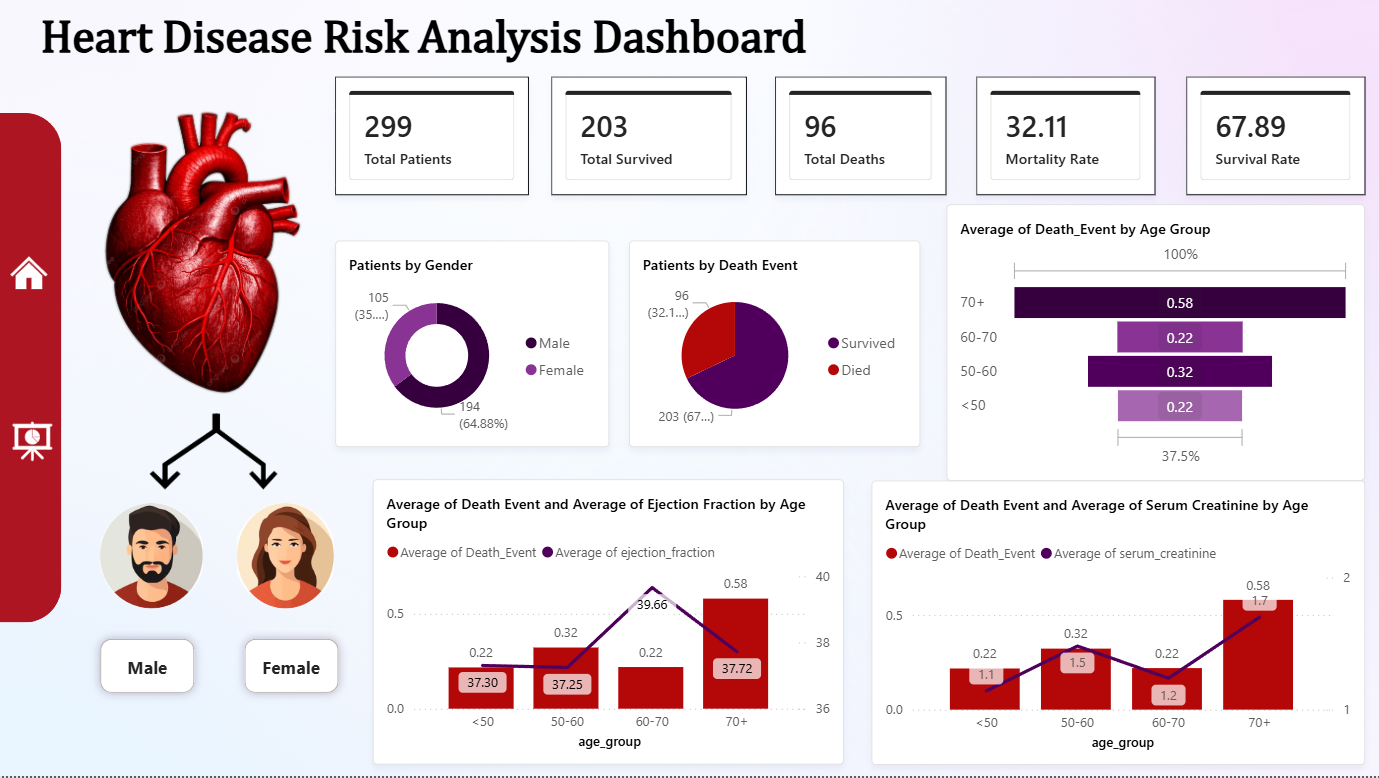

This screenshot's page, from the dashboard's own definition file:
{"tool":"powerbi","page":{"name":"Overview","canvas":[1280,720],"ordinal":0},"visuals":[{"type":"cardVisual","fields":{"Data":["Heart Disease EDA.Total Patients"]},"box":[311.2,72.9,179.3,109.9],"z":0},{"type":"cardVisual","fields":{"Data":["Heart Disease EDA.Total Deaths"]},"box":[718.3,72.9,158.5,109.9],"z":1000},{"type":"cardVisual","fields":{"Data":["Heart Disease EDA.Total Survived"]},"box":[511.3,72.9,180.4,109.9],"z":2000},{"type":"cardVisual","fields":{"Data":["Heart Disease EDA.Mortality Rate"]},"box":[904.5,72.9,165.4,109.9],"z":3000},{"type":"cardVisual","fields":{"Data":["Heart Disease EDA.Survival Rate"]},"box":[1098.9,72.9,165.4,109.9],"z":4000},{"type":"pieChart","title":"Patients by Death Event","fields":{"Category":["Heart Disease EDA.outcome_label"],"Y":["Heart Disease EDA.Total Patients"]},"box":[583,224.4,269.5,190.9],"z":5000},{"type":"donutChart","title":"Patients by Gender","fields":{"Y":["Heart Disease EDA.Total Patients"],"Category":["Heart Disease EDA.sex_label"]},"box":[311.2,224.4,253.3,190.9],"z":6000},{"type":"funnel","title":"Average of Death_Event by Age Group","fields":{"Category":["Heart Disease EDA.age_group"],"Y":["Avg(Heart Disease EDA.Death_Event)"]},"box":[876.8,190.9,387.5,255.6],"z":7000},{"type":"textbox","box":[33.9,9,747.4,71.2],"z":8000},{"type":"image","box":[92.7,467,97.2,97.2],"z":9000},{"type":"image","box":[218.2,467,92.7,97.2],"z":10000},{"type":"lineStackedColumnComboChart","title":"Average of Death Event and Average of Serum Creatinine by Age Group","fields":{"Category":["Heart Disease EDA.age_group"],"Y2":["Avg(Heart Disease EDA.serum_creatinine)"],"Y":["Avg(Heart Disease EDA.Death_Event)"]},"box":[807.3,446.6,456.8,263.4],"z":11000},{"type":"lineStackedColumnComboChart","title":"Average of Death Event and Average of Ejection Fraction by Age Group","fields":{"Y2":["Avg(Heart Disease EDA.ejection_fraction)"],"Category":["Heart Disease EDA.age_group"],"Y":["Avg(Heart Disease EDA.Death_Event)"]},"box":[345.9,445.3,436.1,263.7],"z":12000},{"type":"advancedSlicerVisual","fields":{"Values":["Heart Disease EDA.sex_label"]},"box":[57.7,577.8,288.3,82.5],"z":13000},{"type":"image","box":[47.5,80.3,284.9,313.2],"z":14000},{"type":"shape","box":[0,106.3,57.7,471.5],"z":15000},{"type":"image","box":[7.9,217.1,39.6,73.5],"z":16000},{"type":"image","box":[7.9,362.9,45.2,93.8],"z":17000},{"type":"image","box":[119.8,383.3,100.6,73.5],"z":18000},{"type":"image","box":[177.5,383.3,104,73.5],"z":19000}]}

Visuals, with their boxes in screenshot pixels (x1, y1, x2, y2), scaled from the page's 1280x720 canvas onto the 1379x778 screenshot:
cardVisual - Heart Disease EDA.Total Patients: bbox=(335, 79, 528, 198)
cardVisual - Heart Disease EDA.Total Deaths: bbox=(774, 79, 945, 198)
cardVisual - Heart Disease EDA.Total Survived: bbox=(551, 79, 745, 198)
cardVisual - Heart Disease EDA.Mortality Rate: bbox=(974, 79, 1153, 198)
cardVisual - Heart Disease EDA.Survival Rate: bbox=(1184, 79, 1362, 198)
"Patients by Death Event" pieChart: bbox=(628, 242, 918, 449)
"Patients by Gender" donutChart: bbox=(335, 242, 608, 449)
"Average of Death_Event by Age Group" funnel: bbox=(945, 206, 1362, 482)
textbox: bbox=(37, 10, 842, 87)
image: bbox=(100, 505, 205, 610)
image: bbox=(235, 505, 335, 610)
"Average of Death Event and Average of Serum Creatinine by Age Group" lineStackedColumnComboChart: bbox=(870, 483, 1362, 767)
"Average of Death Event and Average of Ejection Fraction by Age Group" lineStackedColumnComboChart: bbox=(373, 481, 842, 766)
advancedSlicerVisual - Heart Disease EDA.sex_label: bbox=(62, 624, 373, 713)
image: bbox=(51, 87, 358, 425)
shape: bbox=(0, 115, 62, 624)
image: bbox=(9, 235, 51, 314)
image: bbox=(9, 392, 57, 493)
image: bbox=(129, 414, 237, 494)
image: bbox=(191, 414, 303, 494)
